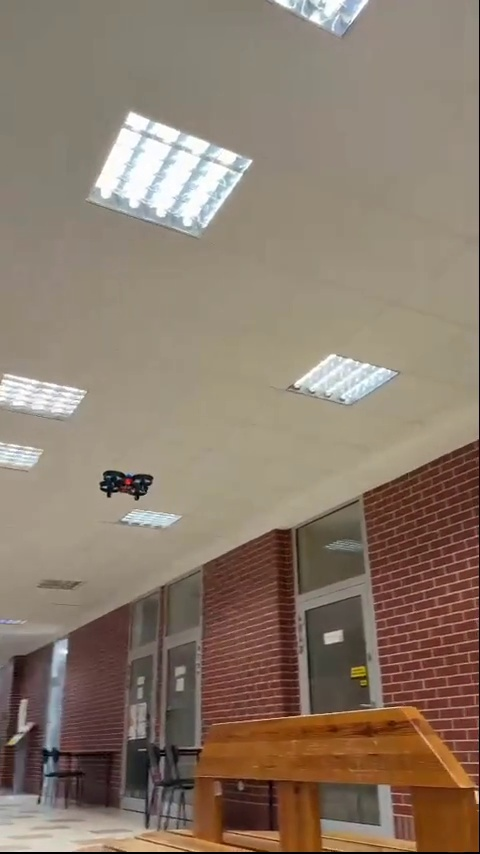drone: (97, 470, 155, 501)
